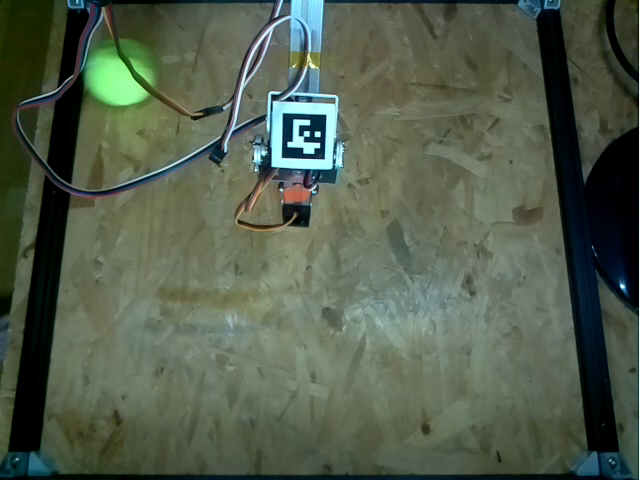tennis_ball: (83, 39, 158, 105)
